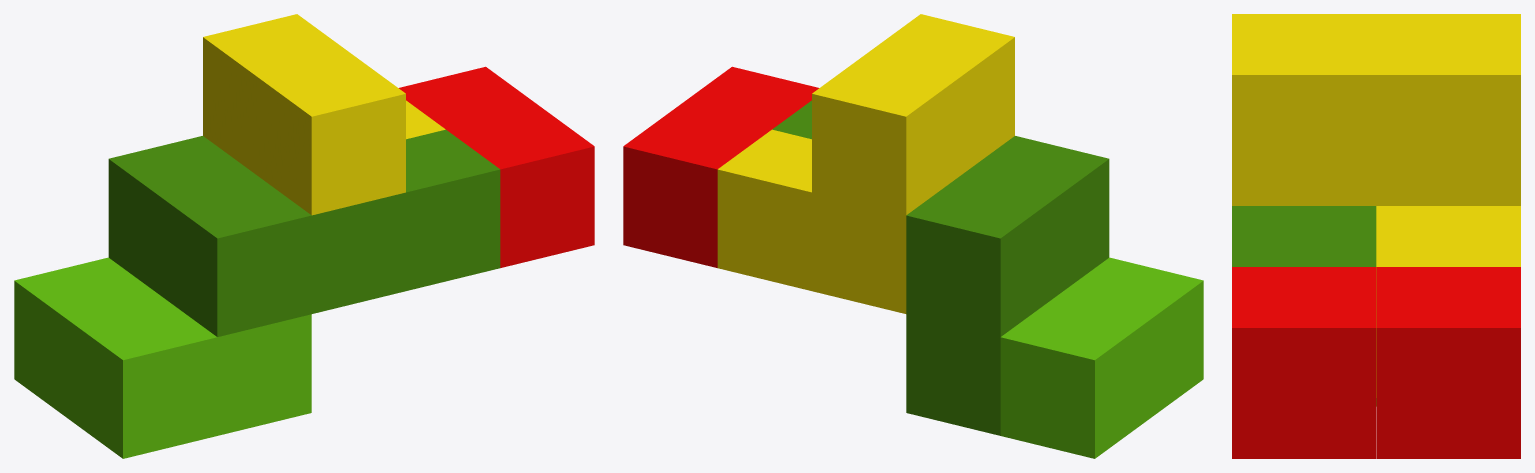
3 views of the same model, side by side, from view 1: azimuth 30°, elevation 25°; view 2: azimuth 150°, elevation 25°; view 3: azimuth 270°, elevation 25° (orthographic). The views are drawn at different scales.
Visible parts, largest first — view 1: mergedBlocks(Clone); view 2: mergedBlocks(Clone); view 3: mergedBlocks(Clone).
Part boxes in pixels (x1,y1,x2,y2): mergedBlocks(Clone): (14,14,594,458); mergedBlocks(Clone): (623,14,1203,458); mergedBlocks(Clone): (1232,14,1520,458).
Bounding box in the file's own units: 5 × 3 × 2.
Materials: 4 (4 with a texture image).
